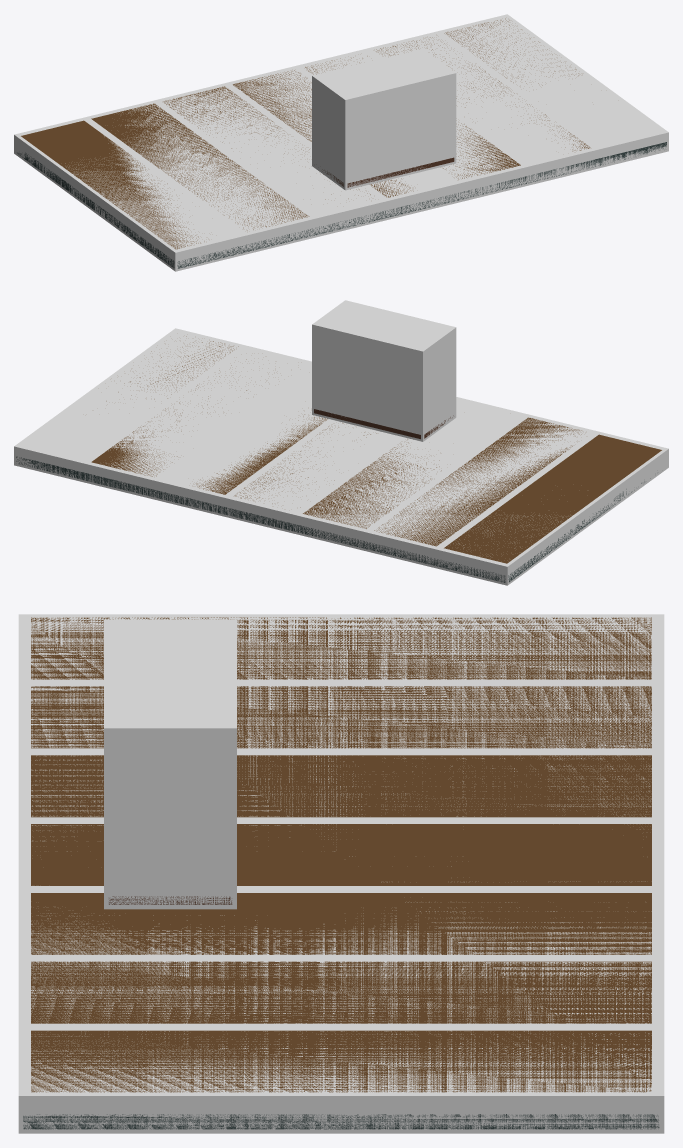
File: env-dais-a.glb
The picture shows the model from 3 angles, top to bottom: view 1: azimuth 30°, elevation 25°; view 2: azimuth 150°, elevation 25°; view 3: azimuth 270°, elevation 25°; orthographic projection. The views are drawn at different scales.
Visible parts, largest first — view 1: COL_dais, COL_lectern, VIS_dais_plank_1, VIS_dais_plank_2, VIS_dais_base, VIS_dais_plank_4, VIS_dais_plank_3, VIS_dais_plank_5, VIS_lectern_foot, VIS_dais_plank_7; view 2: COL_dais, COL_lectern, VIS_dais_plank_1, VIS_dais_plank_2, VIS_dais_base, VIS_dais_plank_3, VIS_dais_plank_5, VIS_dais_plank_6, VIS_lectern_foot; view 3: COL_dais, VIS_dais_plank_6, COL_lectern, VIS_dais_plank_7, VIS_dais_plank_5, VIS_dais_plank_3, VIS_dais_plank_4, VIS_dais_plank_2, VIS_dais_plank_1, VIS_dais_base.
Part boxes in pixels (bbox=[...]): COL_dais: bbox=[14, 14, 668, 271]; COL_lectern: bbox=[312, 49, 456, 190]; VIS_dais_plank_1: bbox=[21, 120, 204, 249]; VIS_dais_plank_2: bbox=[91, 103, 309, 230]; VIS_dais_base: bbox=[17, 142, 666, 268]; VIS_dais_plank_4: bbox=[233, 70, 413, 197]; VIS_dais_plank_3: bbox=[163, 86, 370, 199]; VIS_dais_plank_5: bbox=[305, 56, 520, 179]; VIS_lectern_foot: bbox=[322, 157, 454, 187]; VIS_dais_plank_7: bbox=[444, 18, 578, 85]; COL_dais: bbox=[14, 328, 668, 585]; COL_lectern: bbox=[312, 300, 456, 441]; VIS_dais_plank_1: bbox=[444, 434, 661, 563]; VIS_dais_plank_2: bbox=[374, 417, 581, 546]; VIS_dais_base: bbox=[16, 456, 650, 582]; VIS_dais_plank_3: bbox=[303, 439, 441, 528]; VIS_dais_plank_5: bbox=[196, 414, 327, 494]; VIS_dais_plank_6: bbox=[91, 359, 246, 476]; VIS_lectern_foot: bbox=[314, 409, 453, 439]; COL_dais: bbox=[18, 614, 664, 1133]; VIS_dais_plank_6: bbox=[31, 961, 651, 1023]; COL_lectern: bbox=[104, 620, 236, 909]; VIS_dais_plank_7: bbox=[31, 1030, 651, 1092]; VIS_dais_plank_5: bbox=[31, 893, 651, 954]; VIS_dais_plank_3: bbox=[31, 755, 651, 817]; VIS_dais_plank_4: bbox=[31, 824, 651, 885]; VIS_dais_plank_2: bbox=[31, 686, 651, 748]; VIS_dais_plank_1: bbox=[31, 617, 651, 679]; VIS_dais_base: bbox=[23, 1114, 659, 1129].
Bounding box in the file's own units: 6 × 1.27 × 3.4.
